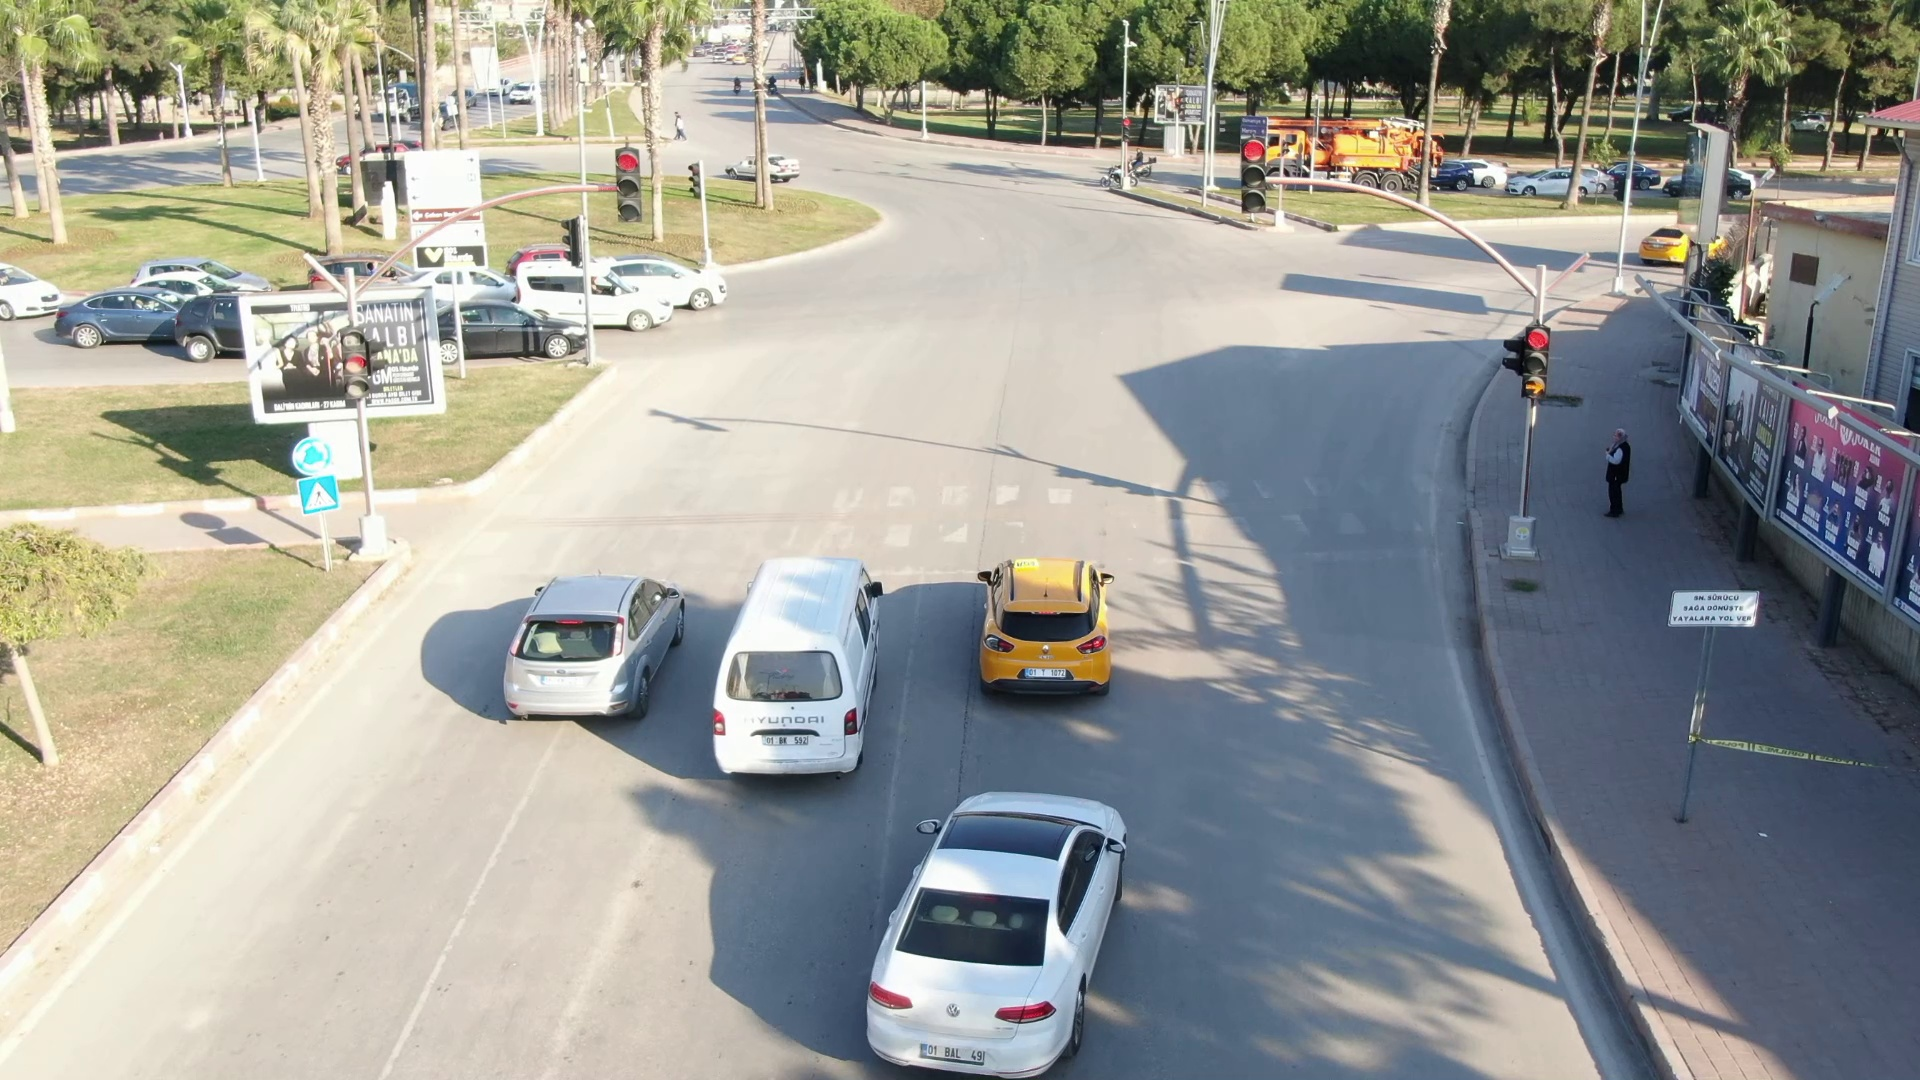car: (861, 763, 1137, 1065), (702, 551, 900, 782), (494, 572, 700, 727), (972, 549, 1123, 721), (512, 261, 678, 339), (423, 298, 606, 363), (600, 255, 729, 304), (1627, 223, 1737, 272)
person: (1598, 429, 1641, 527)
